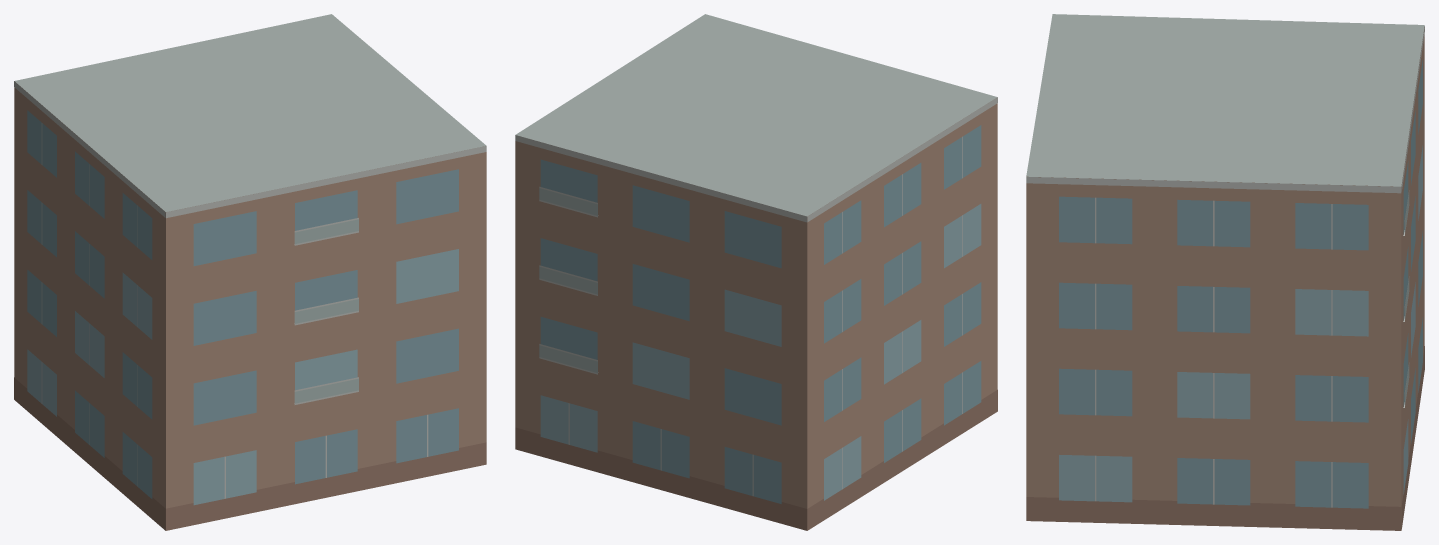
The model's file is survey-upis-32604386.glb.
3 views of the same model, side by side, from view 1: azimuth 30°, elevation 25°; view 2: azimuth 150°, elevation 25°; view 3: azimuth 270°, elevation 25° (orthographic). The views are drawn at different scales.
Parts seen in each view (by area): view 1: survey-upis-32604386.tmp; view 2: survey-upis-32604386.tmp; view 3: survey-upis-32604386.tmp.
Part boxes in pixels (<box>): survey-upis-32604386.tmp: <box>14,14,486,530</box>; survey-upis-32604386.tmp: <box>515,14,997,530</box>; survey-upis-32604386.tmp: <box>1026,14,1424,530</box>.
Size of the model in its own units: 13.73 by 12.75 by 13.39.
